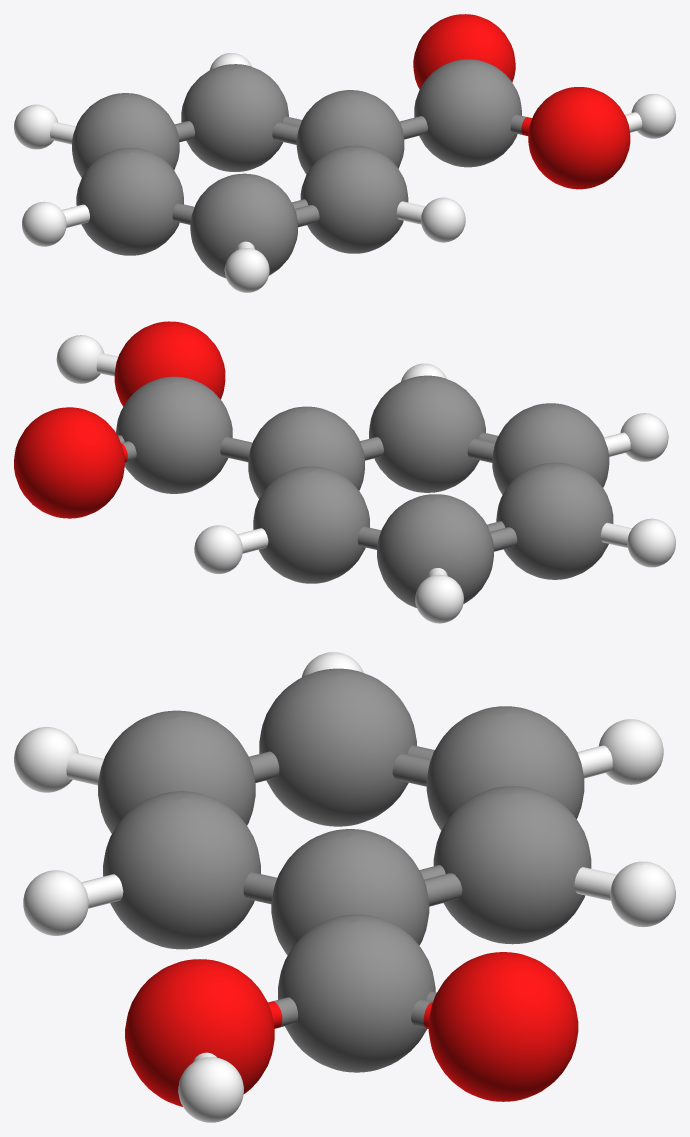
The model's file is BenzoicAcid.obj.
3 views of the same model, one above another, from view 1: azimuth 30°, elevation 25°; view 2: azimuth 150°, elevation 25°; view 3: azimuth 270°, elevation 25° (orthographic). The views are drawn at different scales.
Visible parts, largest first — view 1: Carbon_ball.002, Oxygen_ball, Hydrogen_ball.002, Carbon_sticks_cylinder.002, Hydrogen_sticks_cylinder.002; view 2: Carbon_ball.002, Oxygen_ball, Hydrogen_ball.002, Carbon_sticks_cylinder.002, Hydrogen_sticks_cylinder.002; view 3: Carbon_ball.002, Oxygen_ball, Hydrogen_ball.002, Carbon_sticks_cylinder.002, Hydrogen_sticks_cylinder.002.
Part boxes in pixels (x1=…): Carbon_ball.002: x1=72, y1=59, x2=521, y2=278; Oxygen_ball: x1=413, y1=14, x2=630, y2=189; Hydrogen_ball.002: x1=14, y1=53, x2=675, y2=292; Carbon_sticks_cylinder.002: x1=172, y1=114, x2=526, y2=227; Hydrogen_sticks_cylinder.002: x1=50, y1=112, x2=642, y2=250; Carbon_ball.002: x1=116, y1=375, x2=613, y2=607; Oxygen_ball: x1=14, y1=321, x2=225, y2=518; Hydrogen_ball.002: x1=56, y1=335, x2=675, y2=623; Carbon_sticks_cylinder.002: x1=118, y1=432, x2=517, y2=551; Hydrogen_sticks_cylinder.002: x1=96, y1=353, x2=631, y2=577; Carbon_ball.002: x1=98, y1=668, x2=591, y2=1072; Oxygen_ball: x1=125, y1=952, x2=578, y2=1106; Hydrogen_ball.002: x1=14, y1=652, x2=675, y2=1122; Carbon_sticks_cylinder.002: x1=243, y1=745, x2=462, y2=1028; Hydrogen_sticks_cylinder.002: x1=66, y1=745, x2=616, y2=1062.
Size of the model in its own units: 7.48 by 1.16 by 4.83.
